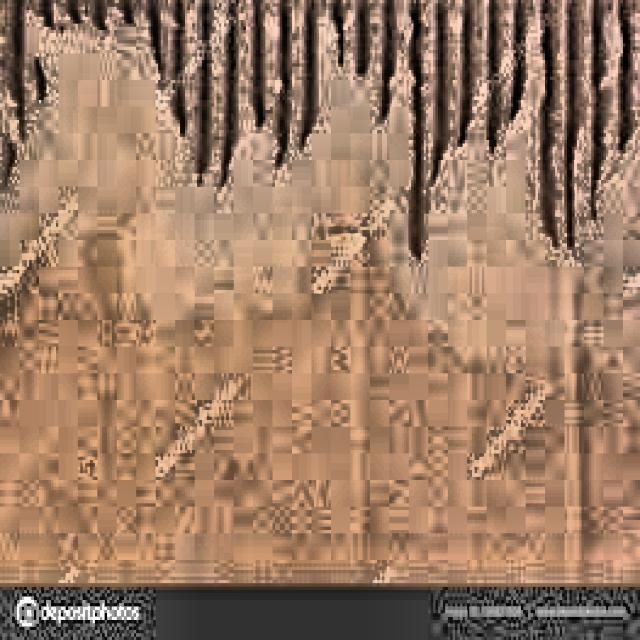cardboard: (0, 0, 638, 590)
